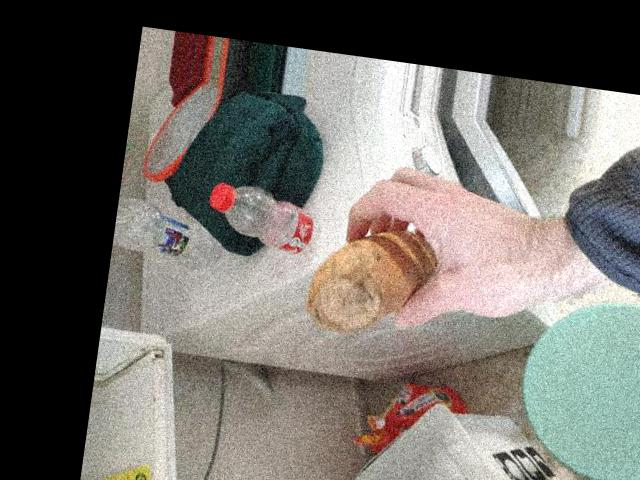sweet_potato: (299, 221, 440, 339)
